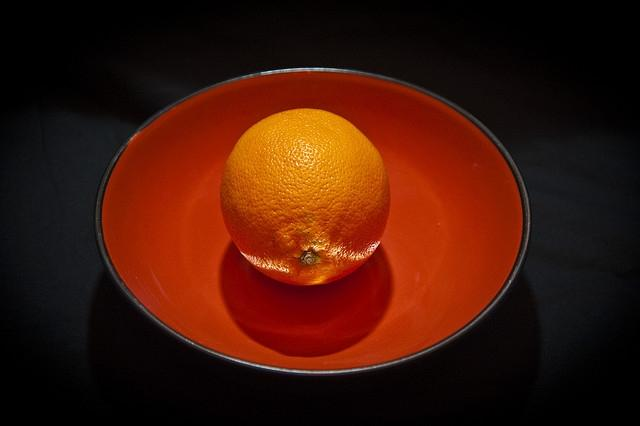orange: (220, 108, 392, 286)
